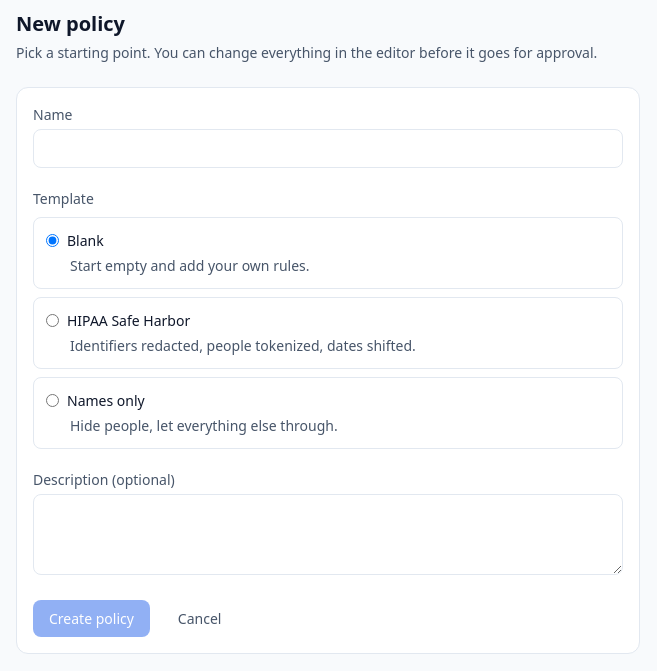
Test: NewPolicyPage › keeps Create disabled until there is a name
The image size is (657, 671).
Expected: the button "Create policy" is disabled, [33,600,150,637]
Type "Strict" into the field labelled "Name" at (328, 148), box [33,129,623,168]
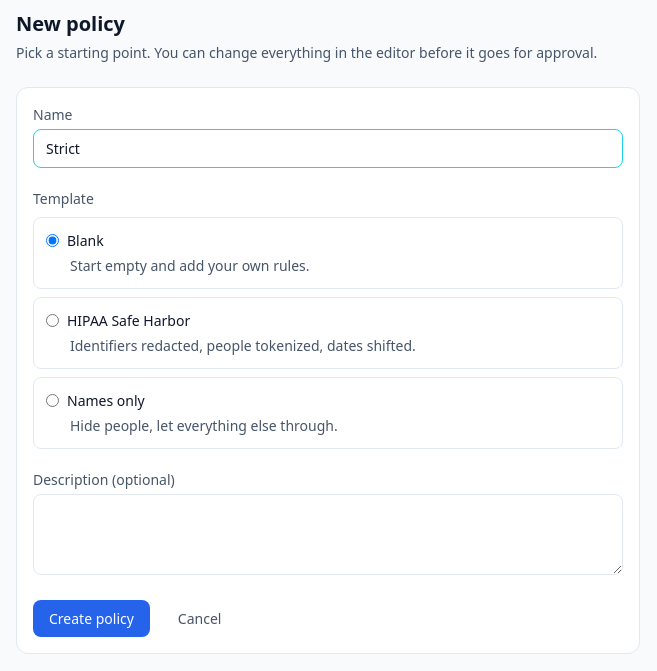
Now the button "Create policy" is enabled, box [33,600,150,637]
